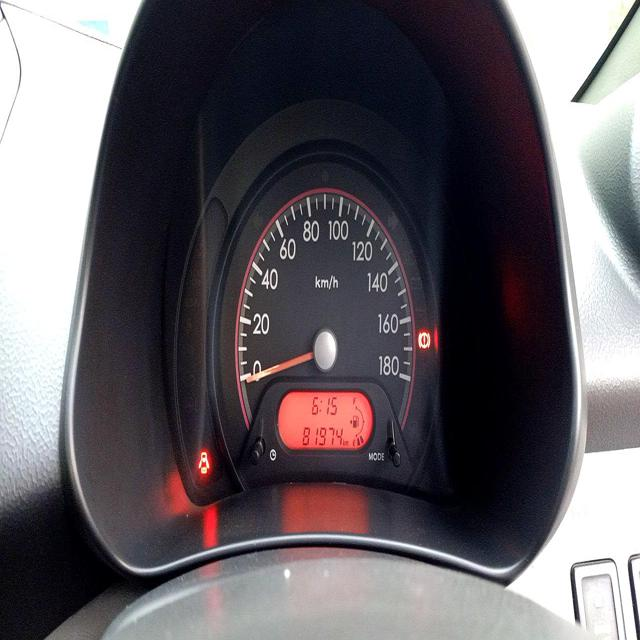odometer: (299, 420, 345, 448)
